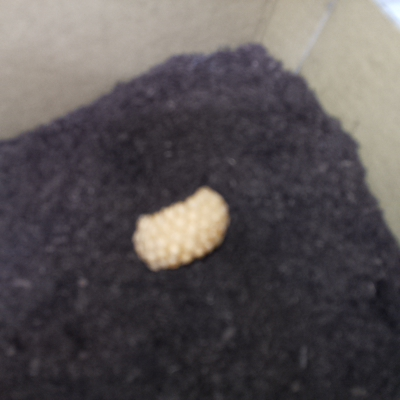eggs: (125, 181, 234, 275)
